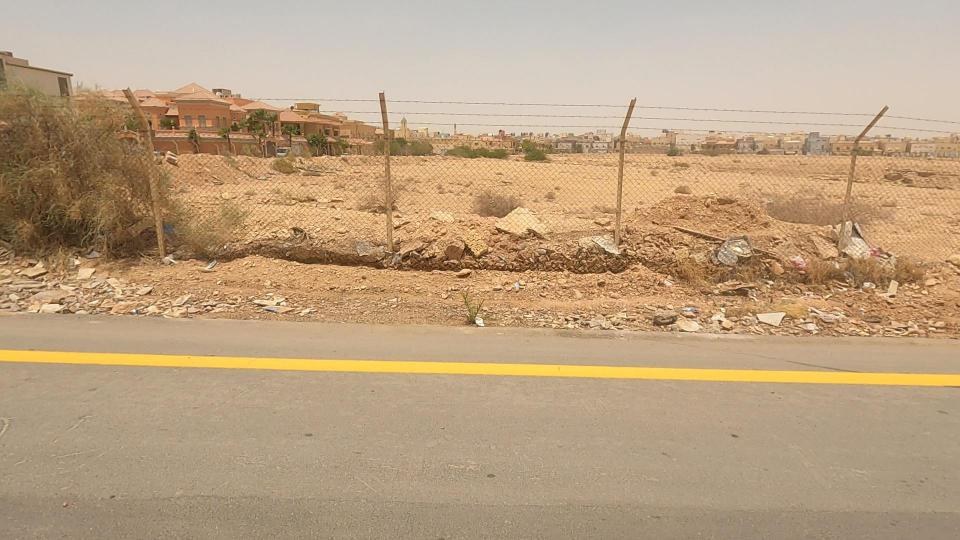GARBAGE: (783, 189, 935, 306), (629, 203, 799, 304), (193, 248, 336, 345), (624, 268, 764, 350), (48, 253, 163, 319), (124, 197, 215, 268), (167, 238, 256, 302), (772, 229, 825, 303)
